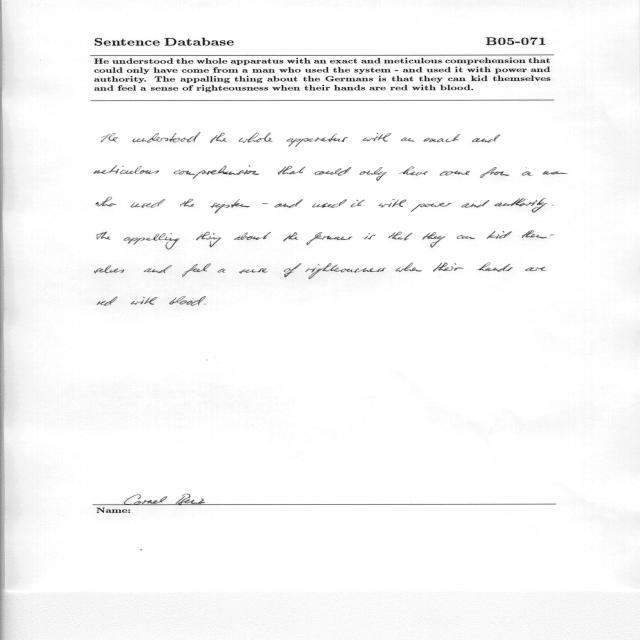word: (305, 263, 386, 279), (173, 165, 259, 179), (123, 233, 180, 250), (286, 133, 348, 147), (494, 198, 547, 213), (133, 132, 201, 143), (210, 199, 250, 214), (307, 232, 353, 245), (94, 165, 159, 174), (182, 263, 211, 277), (359, 167, 387, 181), (196, 232, 221, 247), (169, 296, 206, 306), (411, 203, 452, 212), (423, 232, 446, 248), (239, 133, 273, 143), (315, 167, 352, 176), (477, 263, 513, 272), (481, 167, 510, 178), (312, 199, 347, 208), (131, 199, 165, 208), (423, 134, 460, 142), (234, 232, 271, 240), (433, 263, 463, 272), (399, 167, 428, 176), (274, 199, 303, 208), (522, 231, 554, 239), (363, 133, 391, 142), (278, 166, 306, 175), (284, 263, 301, 277), (396, 263, 422, 272), (461, 200, 490, 208), (95, 266, 124, 274), (388, 232, 413, 241), (472, 135, 500, 143), (379, 199, 407, 207), (144, 265, 172, 273), (131, 297, 158, 305), (96, 197, 116, 207), (487, 231, 512, 239), (97, 297, 118, 306), (239, 268, 268, 274), (210, 133, 227, 143), (101, 133, 118, 142), (440, 171, 470, 176), (283, 233, 298, 242), (97, 231, 111, 240), (180, 199, 194, 207), (543, 171, 568, 175), (351, 200, 365, 207), (525, 267, 547, 271), (522, 168, 532, 176), (364, 233, 375, 240), (457, 235, 475, 239), (401, 138, 415, 142), (218, 269, 226, 273), (262, 203, 269, 204), (552, 205, 554, 206), (204, 304, 206, 305)
